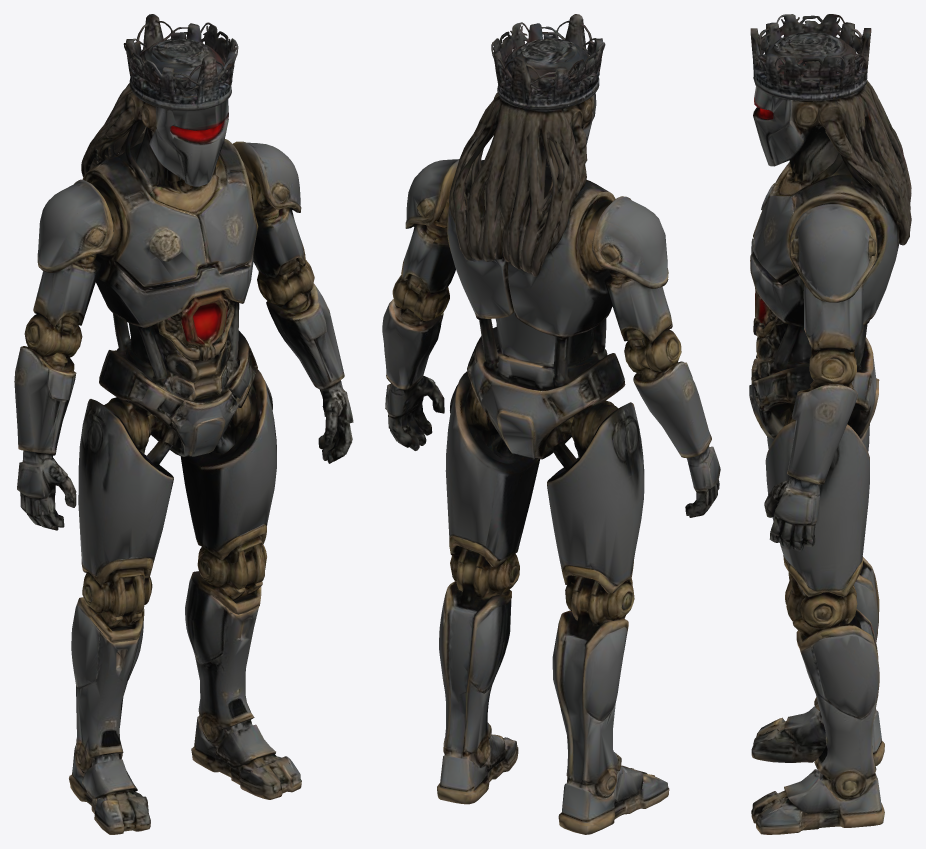
Rendered from El_Rey.glb.
3 renders of one model, left to right at view 1: azimuth 30°, elevation 25°; view 2: azimuth 150°, elevation 25°; view 3: azimuth 270°, elevation 25°, orthographic.
Parts seen in each view (by area): view 1: node_0; view 2: node_0; view 3: node_0.
Boxes of the visible parts, box(x1,y1,x2,y2) form: node_0: box(14, 14, 353, 834); node_0: box(382, 14, 720, 834); node_0: box(749, 14, 911, 834).
Size of the model in its own units: 0.9041 by 2 by 0.387.
1 material, 1 textured.
